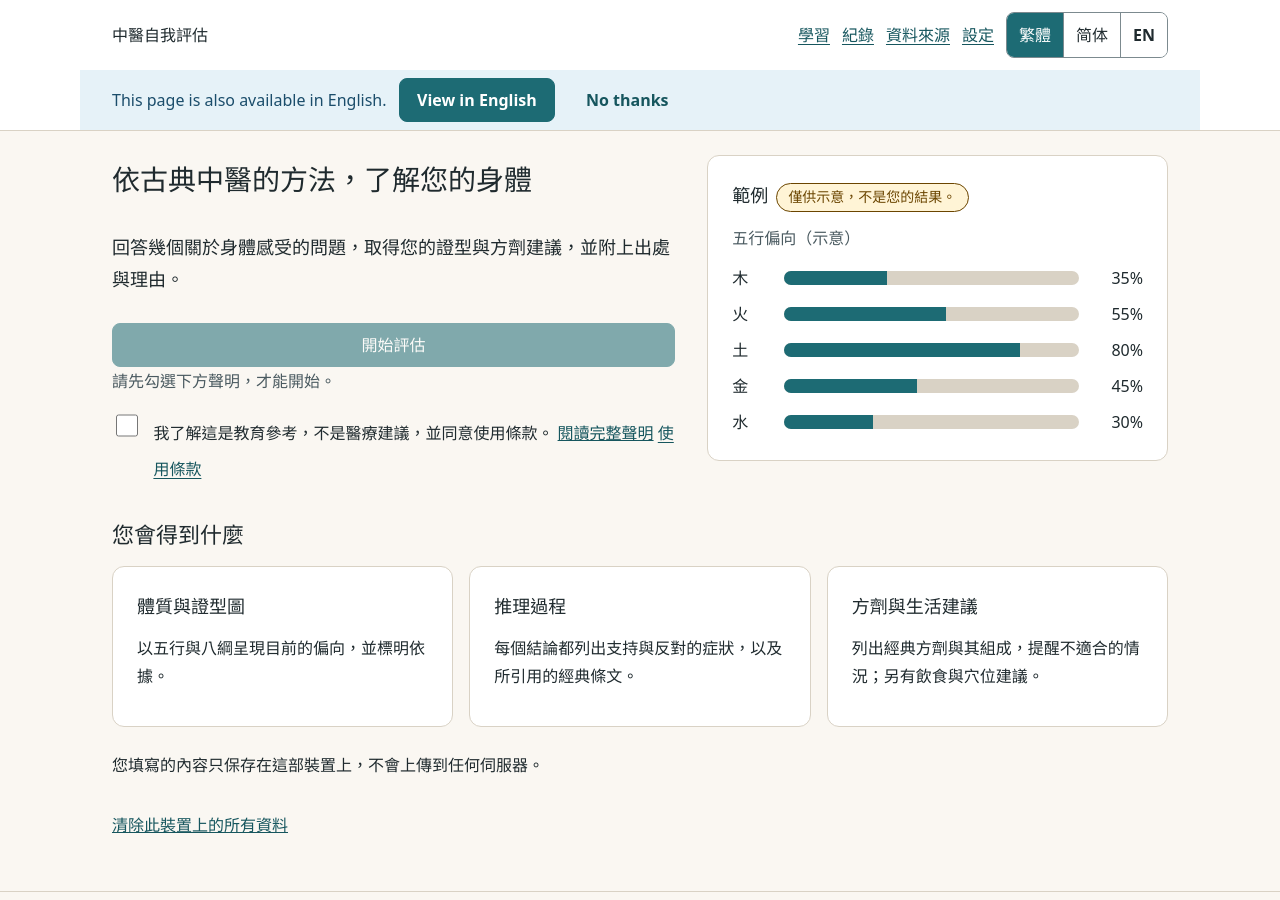
Test: storage and preferences in the shell › the one-time 'View in English' offer › is offered (in English) to an English browser that has not chosen, and is retired by Dismiss
The width and height of the screenshot is (1280, 900).
Expected: the element named "Language" shows "This page is also available in English.", [112, 89, 386, 111]
Click the button "No thanks" at (627, 100), box [567, 78, 687, 122]
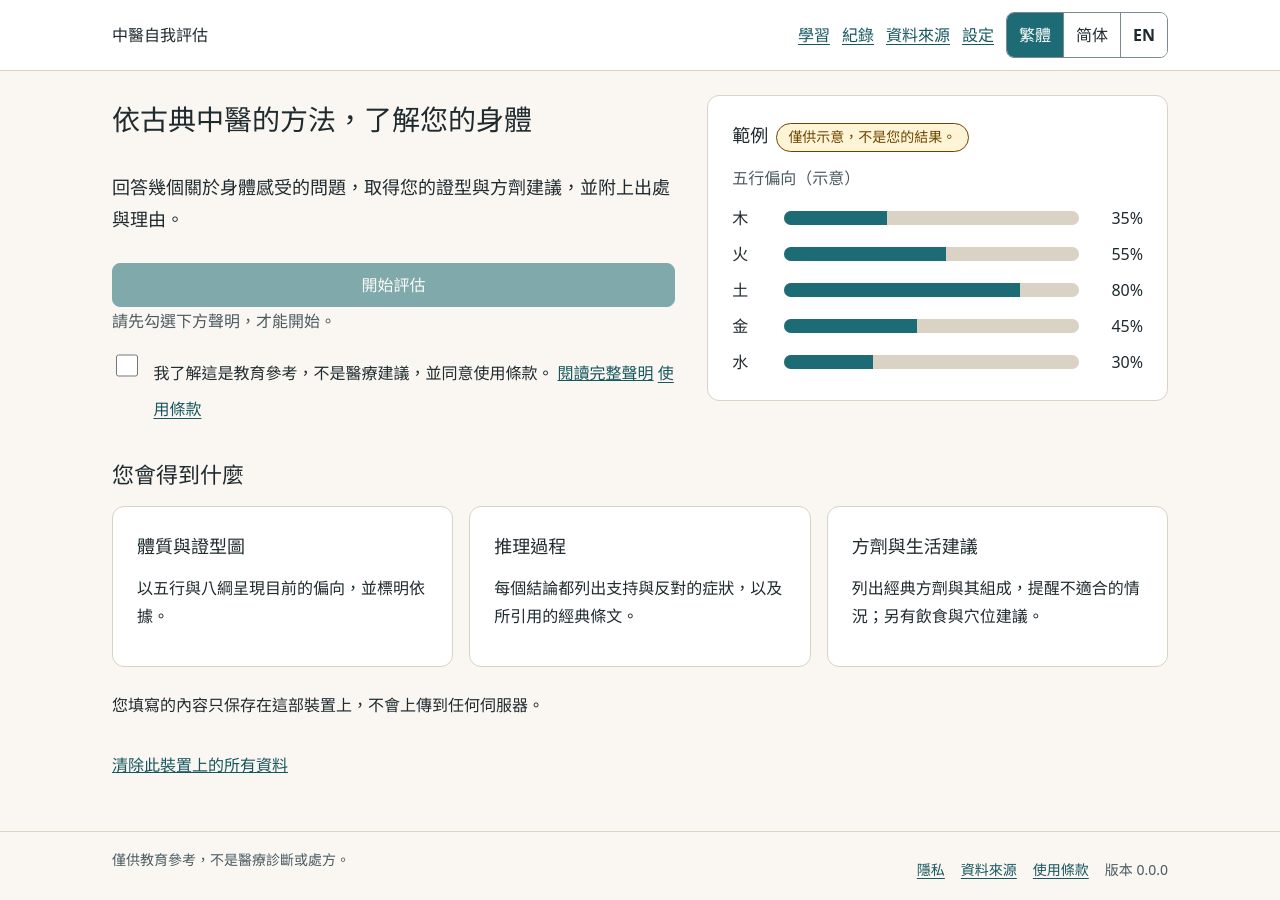
Now the element "Language" is gone
